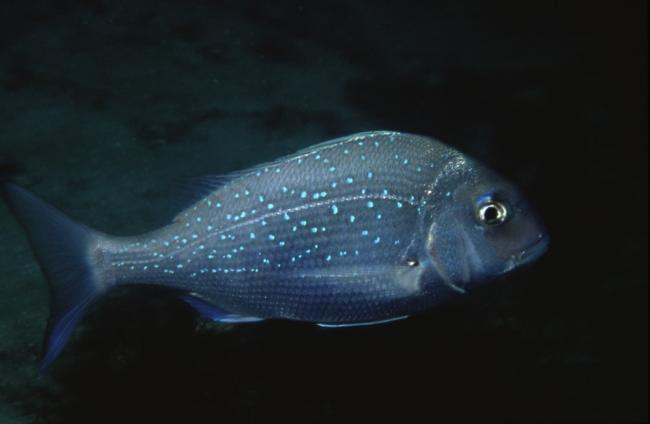fish: (6, 129, 548, 371)
